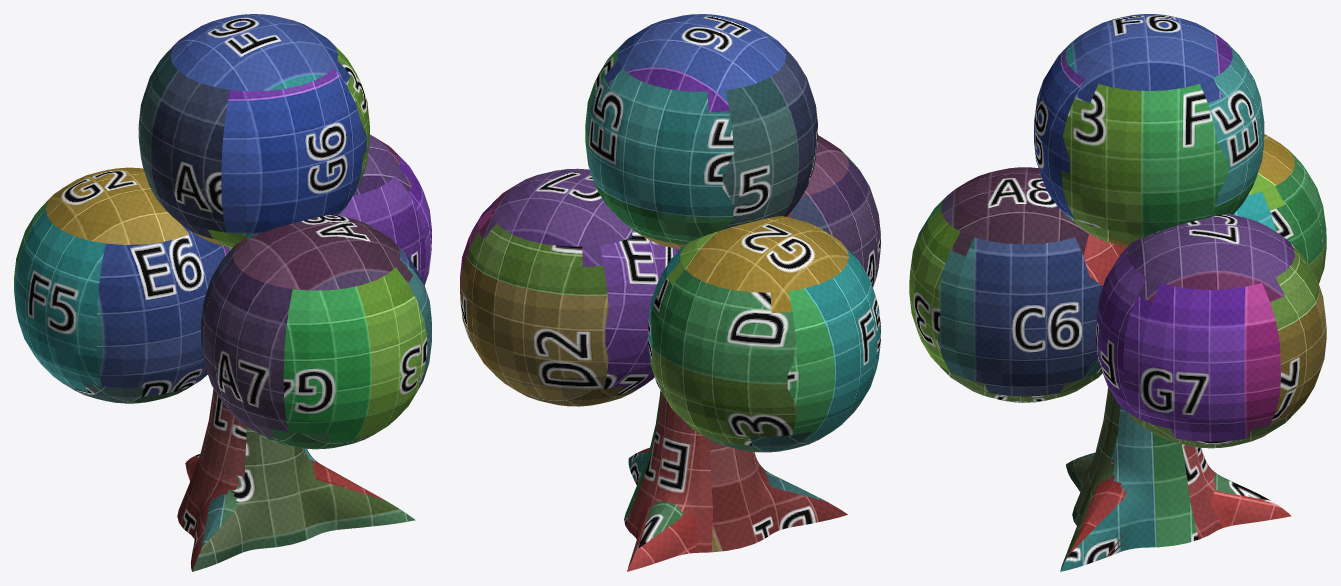
Rendered from BasicTree.gltf.
The picture shows the model from 3 angles, left to right: view 1: azimuth 30°, elevation 25°; view 2: azimuth 150°, elevation 25°; view 3: azimuth 270°, elevation 25°; orthographic projection.
Parts seen in each view (by area): view 1: BasicTree; view 2: BasicTree; view 3: BasicTree.
Part boxes in pixels (x1=…): BasicTree: x1=14, y1=14, x2=431, y2=571; BasicTree: x1=460, y1=14, x2=880, y2=571; BasicTree: x1=909, y1=14, x2=1326, y2=571.
Size of the model in its own units: 2.9 by 3.5 by 2.71.
Materials: 1 (1 with a texture image).
